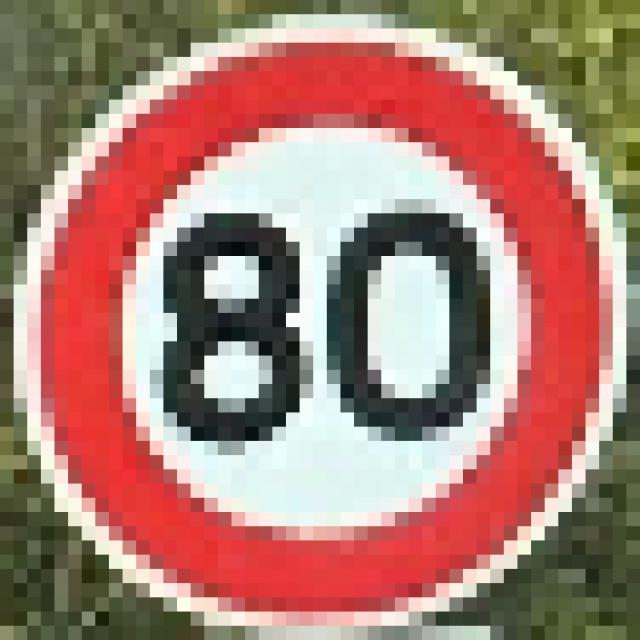speed_80: (0, 0, 626, 626)
